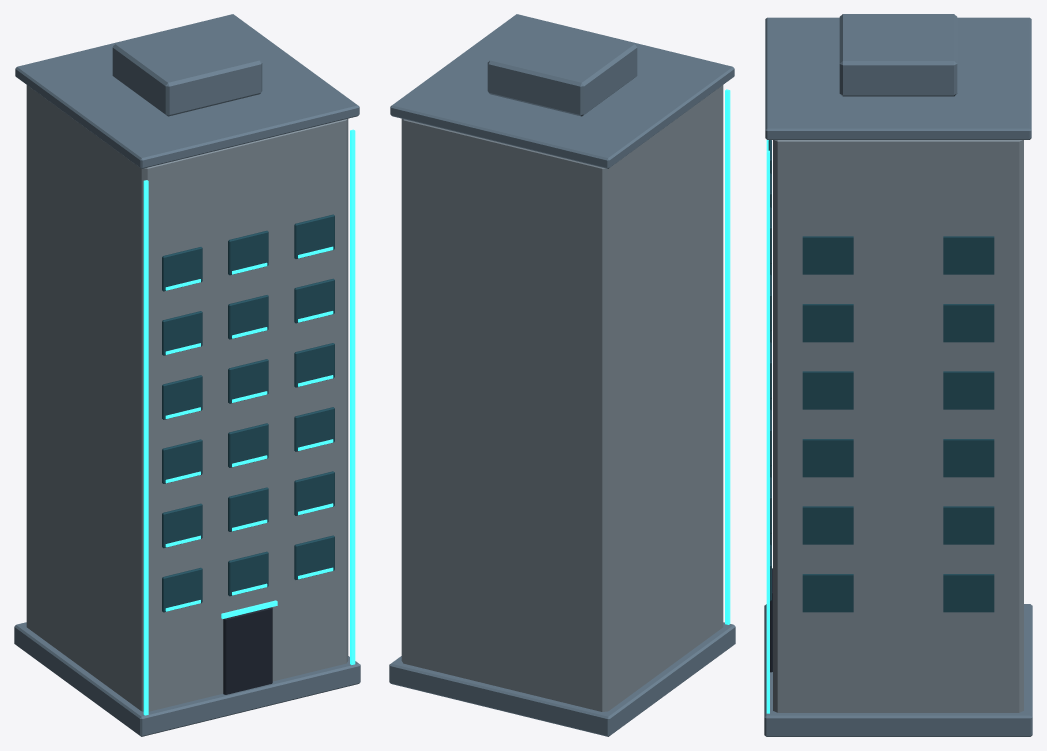
Rendered from SM_ENV_Building_003_Corporate.glb.
3 views of the same model, side by side, from view 1: azimuth 30°, elevation 25°; view 2: azimuth 150°, elevation 25°; view 3: azimuth 270°, elevation 25° (orthographic). The views are drawn at different scales.
Parts seen in each view (by area): view 1: SM_ENV_Building_003_Corporate; view 2: SM_ENV_Building_003_Corporate; view 3: SM_ENV_Building_003_Corporate.
Boxes of the visible parts, x1,y1,x2,y2 form: SM_ENV_Building_003_Corporate: [14, 14, 360, 736]; SM_ENV_Building_003_Corporate: [389, 14, 735, 736]; SM_ENV_Building_003_Corporate: [764, 14, 1032, 736].
Bounding box in the file's own units: 3.42 × 9.06 × 3.42.
